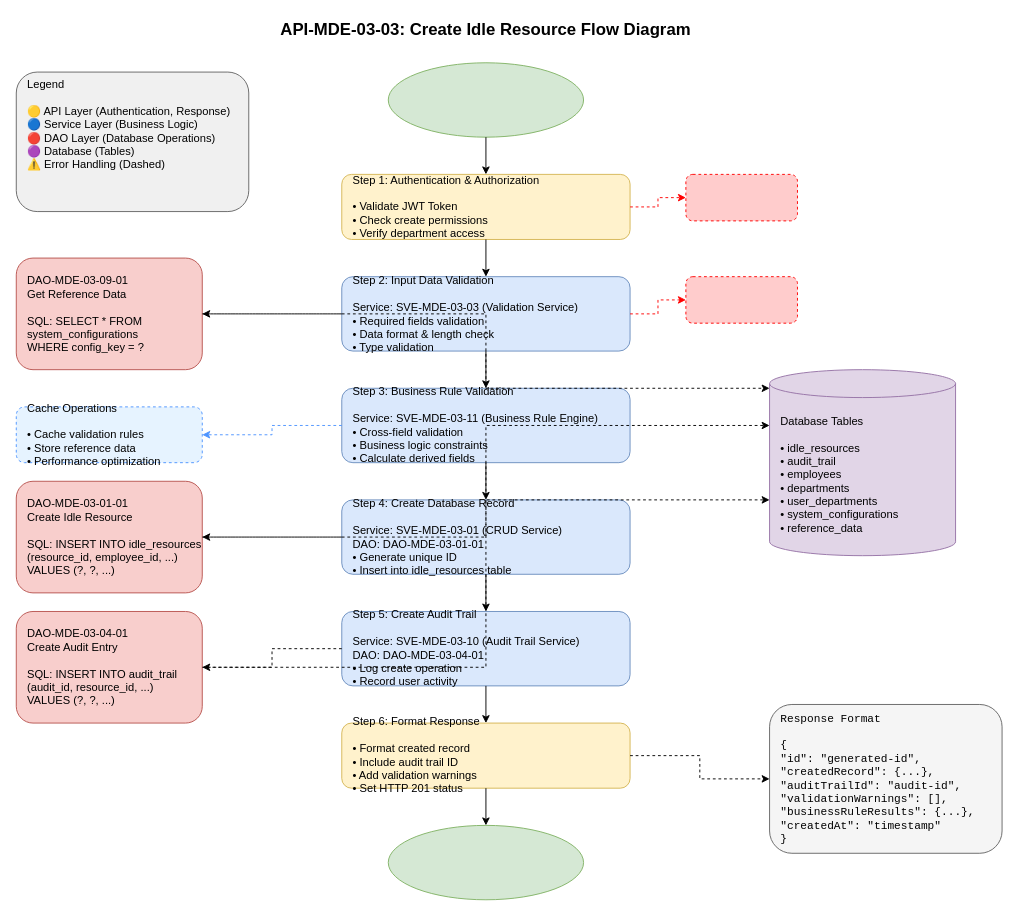
Some shapes in this 1018 by 916 pixel diagram are drawn without their labels. Each missing label, with the box of its shape:
400 Bad Request Validation Errors: (685, 276, 797, 323)
403 Forbidden Unauthorized: (685, 173, 797, 221)
END HTTP 201 Created Return Created Resource: (387, 824, 584, 900)
START POST /api/v1/idle-resources Create New Idle Resource: (387, 62, 584, 137)
